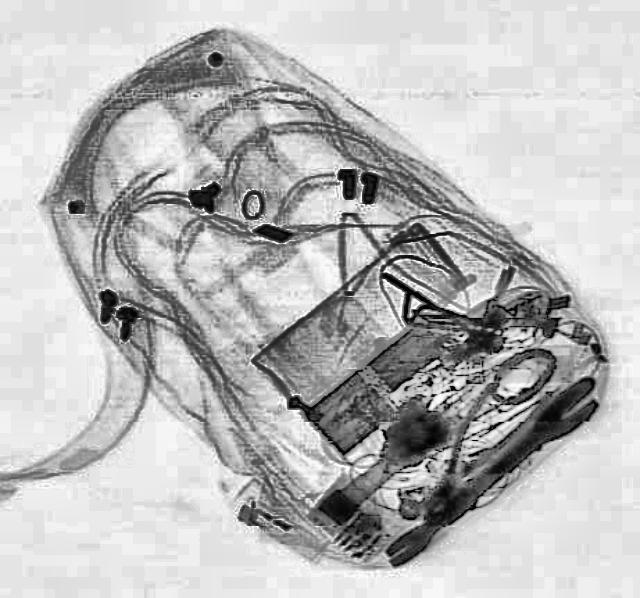Pliers: (396, 350, 580, 536)
Wrench: (376, 366, 600, 572)
